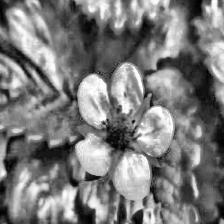Blossom Blight: (100, 103, 142, 155)
